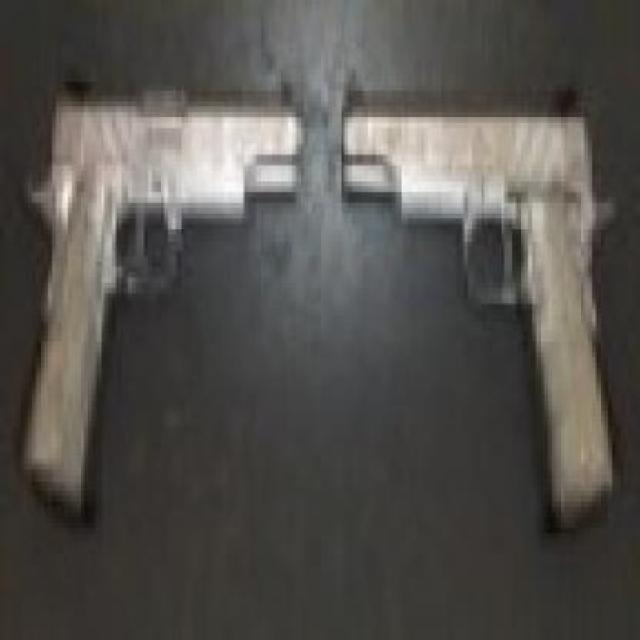gun: (16, 58, 309, 517), (344, 64, 620, 544)
